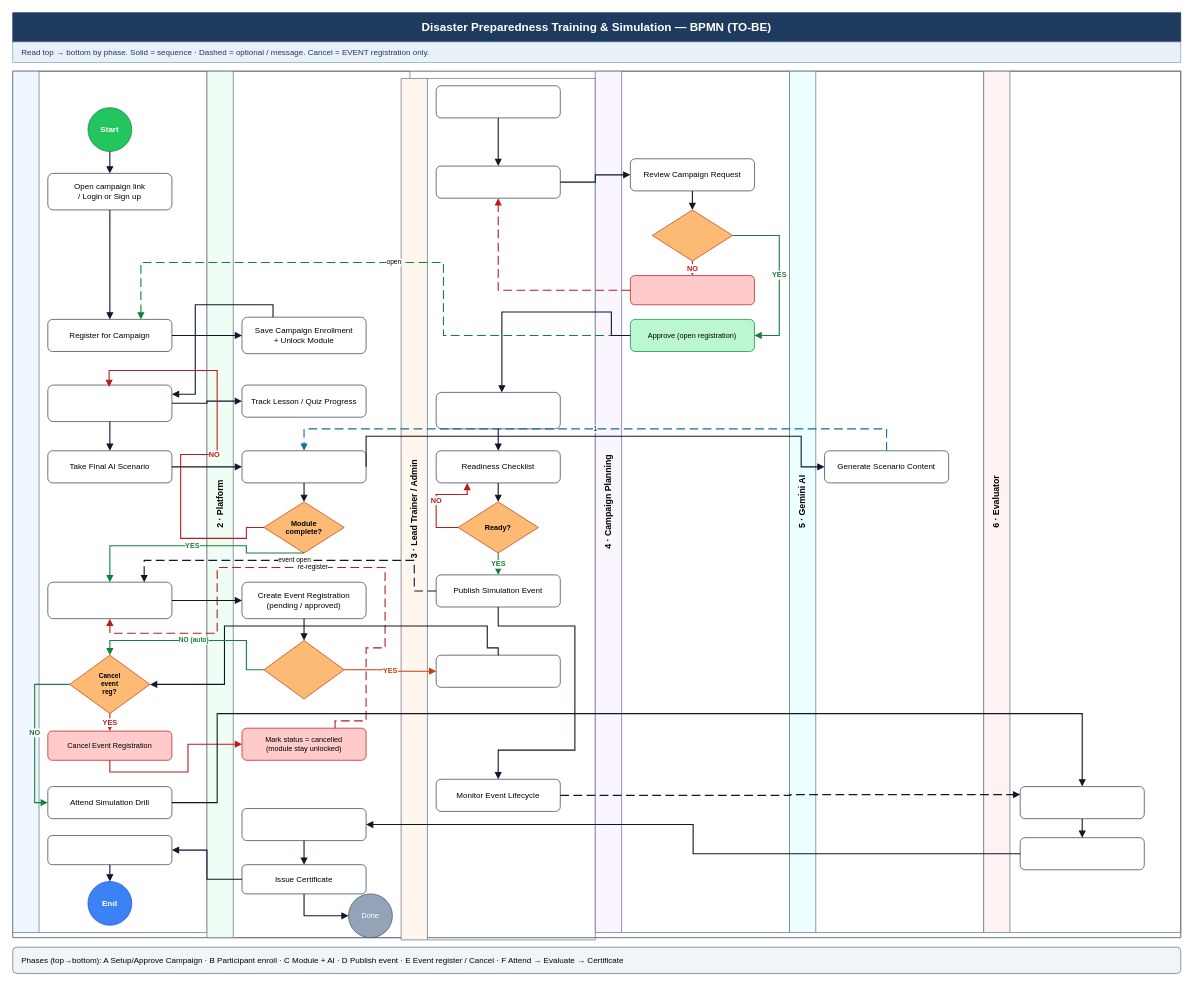
Some shapes in this 1194 by 986 pixel diagram are drawn without their labels. Each missing label, with the box of its shape:
1 · Participant: (12, 70, 207, 933)
Approve Registration: (435, 654, 560, 687)
Approved?: (652, 209, 733, 261)
Create Exercise Plan (+ Template): (435, 392, 560, 429)
Needs manual approve?: (263, 640, 344, 699)
Publish Training Module: (435, 85, 560, 118)
Receive Certificate / Results: (47, 835, 172, 865)
Record Attendance: (1019, 786, 1144, 819)
Register for Simulation Event: (47, 581, 172, 619)
Reject → revise: (630, 275, 754, 305)
Save Attendance + Scores: (241, 808, 366, 841)
Score / Evaluate: (1019, 837, 1144, 870)
Store AI Scenario Attempt: (241, 450, 366, 483)
Study Module (Lessons + Quizzes): (47, 384, 172, 422)
Submit Campaign Request: (435, 165, 560, 198)
